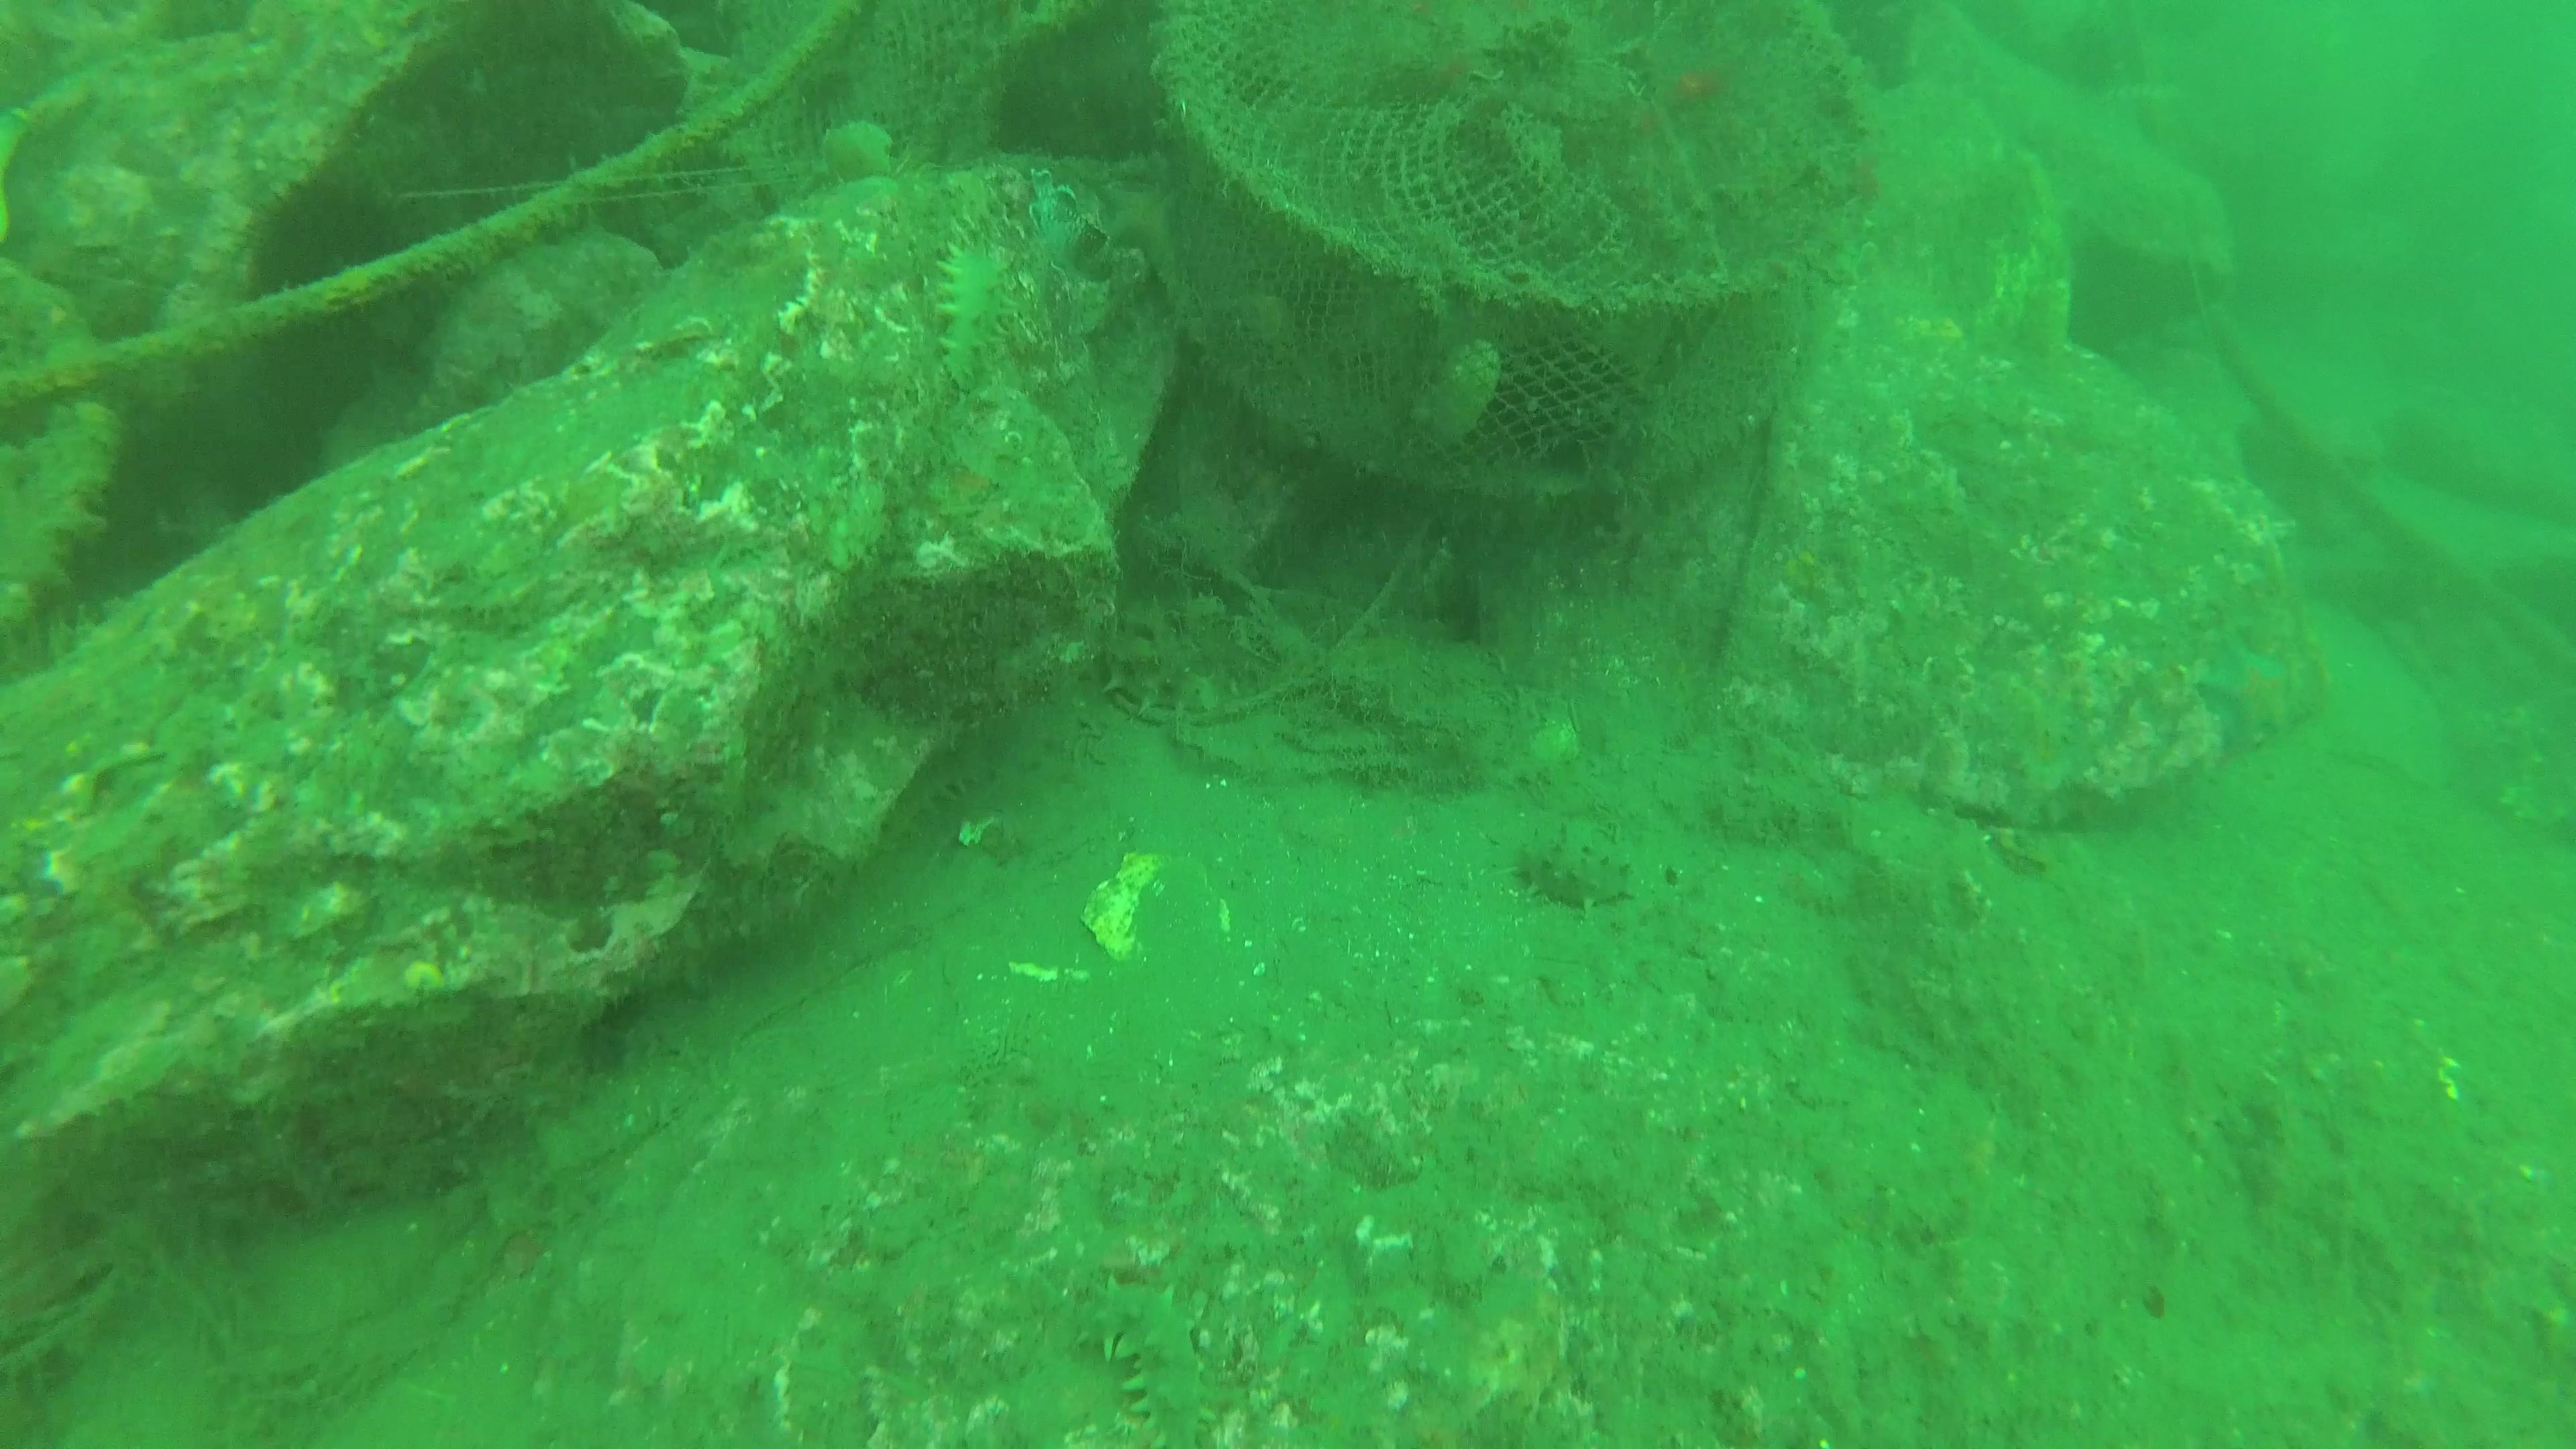holothurian: (1074, 1281, 1221, 1449), (855, 745, 994, 858), (936, 228, 1021, 400), (1514, 821, 1637, 911)
